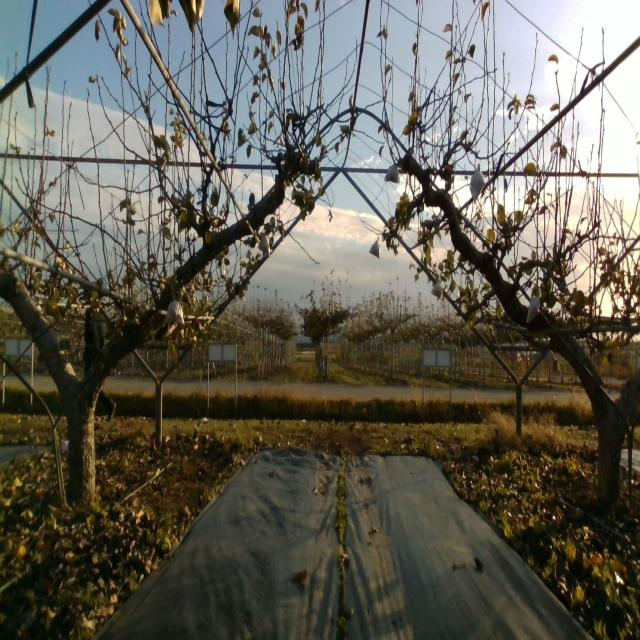pearbags: (162, 296, 185, 328), (470, 164, 485, 202), (527, 290, 541, 322), (431, 276, 444, 302), (257, 233, 271, 257), (385, 163, 399, 184), (369, 237, 380, 259)
